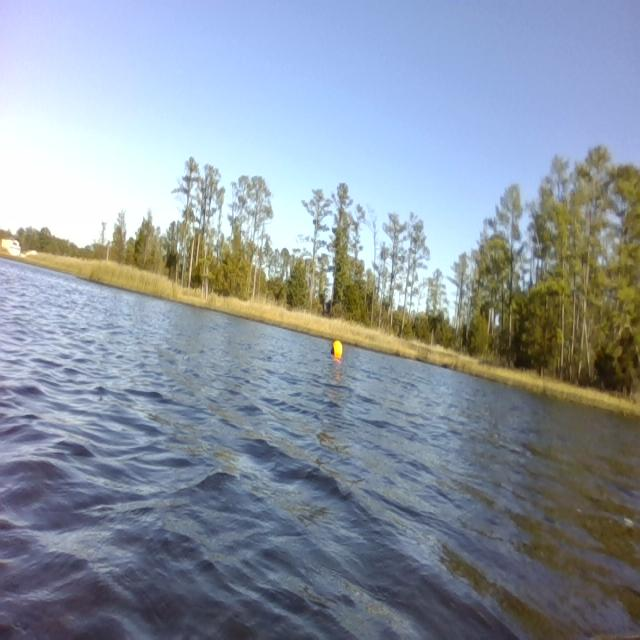Buoy: (329, 338, 345, 359)
